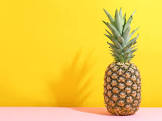Pineapple: (101, 7, 142, 116)
